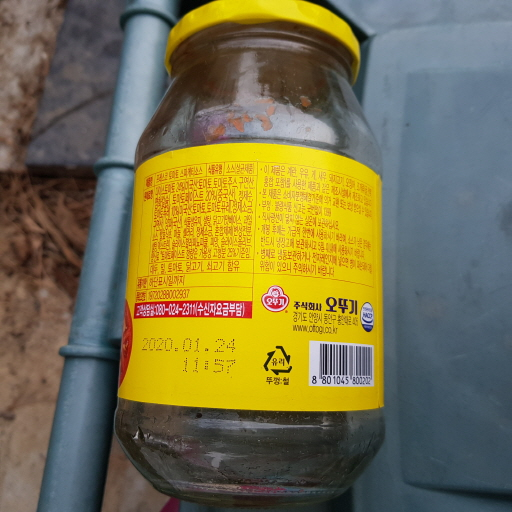Glass_5: (113, 2, 388, 499)
